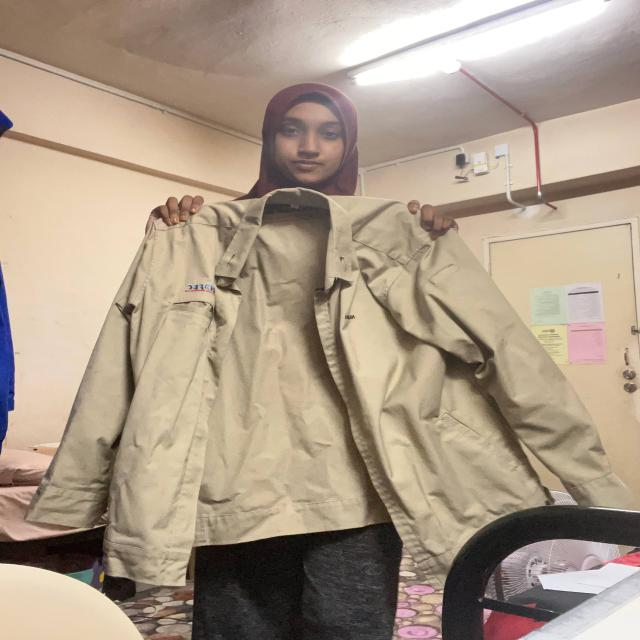person_without_labcoat: (28, 89, 629, 640)
